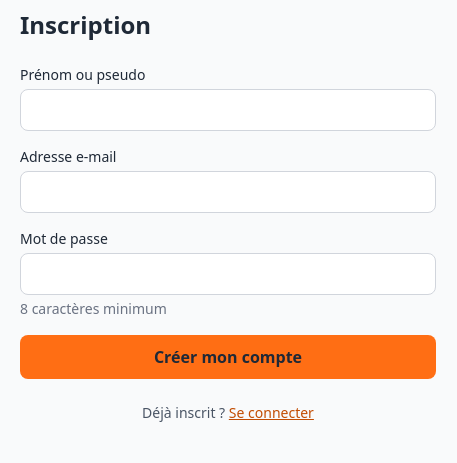
Scenario: page d'inscription › signale une adresse e-mail déjà utilisée sous le champ concerné
Type "Marie" into the field labelled "Prénom ou pseudo" at (228, 110), box [20,89,436,131]
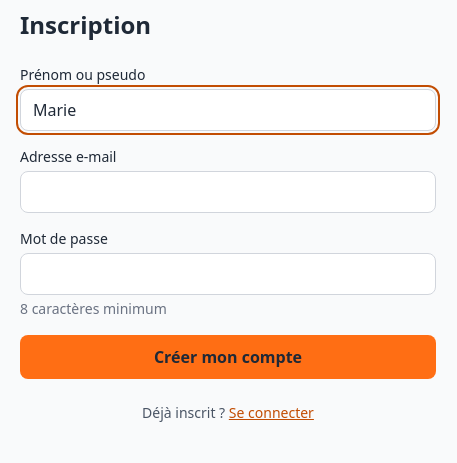
Type "marie@test.fr" into the field labelled "Adresse e-mail" at (228, 192), box [20,171,436,213]
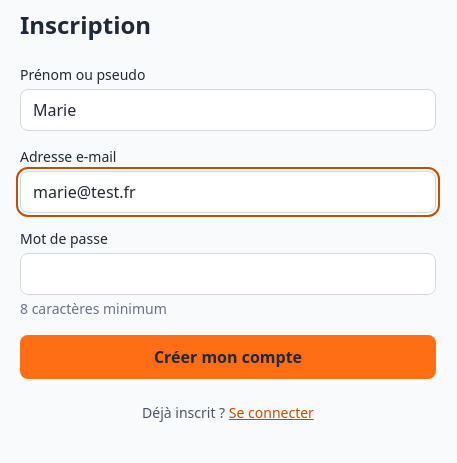
Type "motdepasse" into the password field labelled "Mot de passe" at (228, 274), box [20,253,436,295]
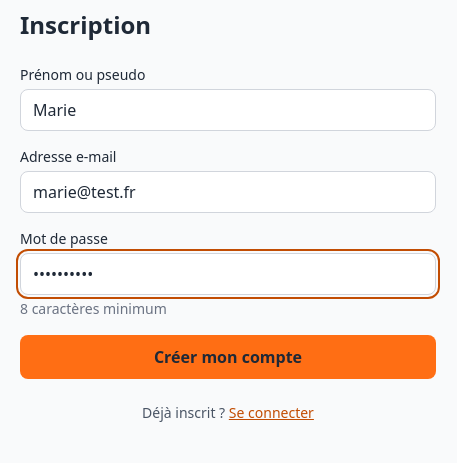
Click the button "Créer mon compte" at (228, 357), box [20,335,436,379]
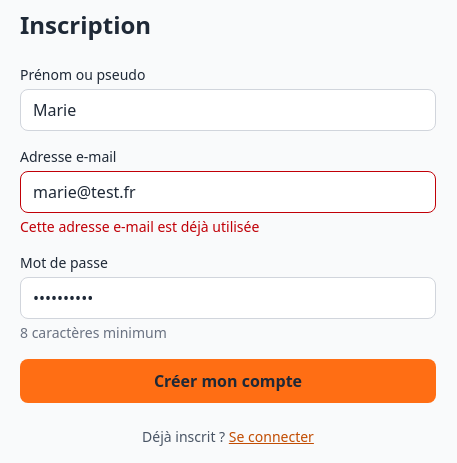
Expected: the text "Cette adresse e-mail est déjà utilisée" is shown, [20,217,259,236]
